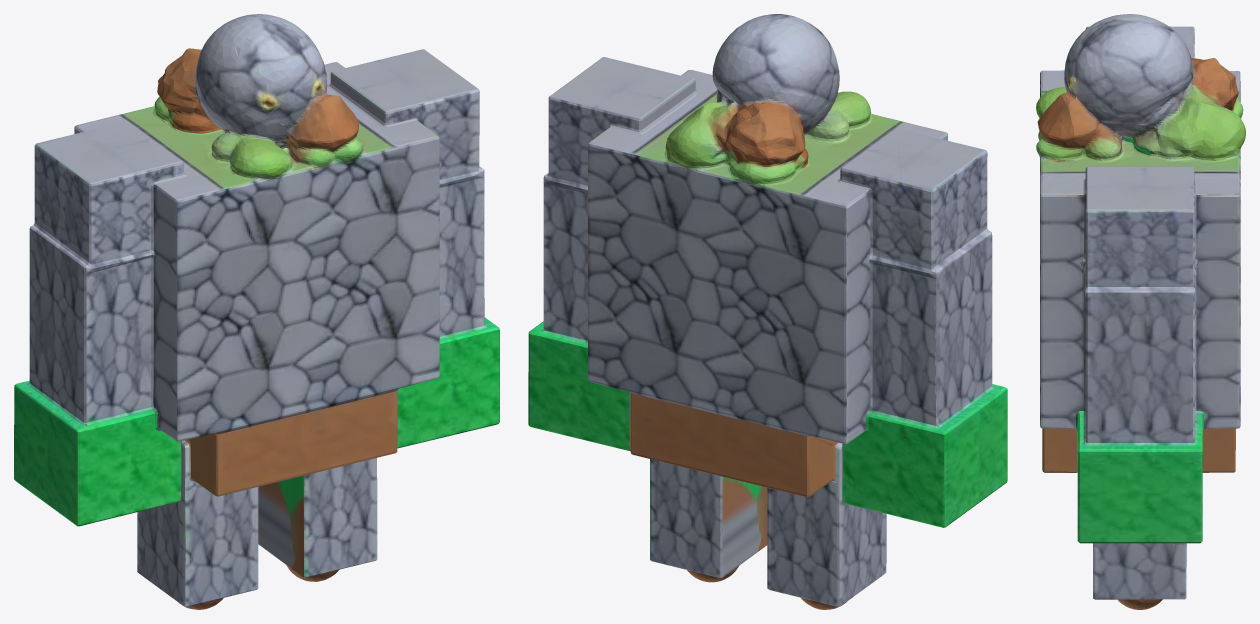
The model's file is creature-107.lod.glb.
The picture shows the model from 3 angles, left to right: view 1: azimuth 30°, elevation 25°; view 2: azimuth 150°, elevation 25°; view 3: azimuth 270°, elevation 25°; orthographic projection. The views are drawn at different scales.
Parts seen in each view (by area): view 1: tmph0wsfhwy.ply; view 2: tmph0wsfhwy.ply; view 3: tmph0wsfhwy.ply.
Part boxes in pixels (left/top/right/bottom): tmph0wsfhwy.ply: left=14, top=14, right=499, bottom=609; tmph0wsfhwy.ply: left=528, top=14, right=1007, bottom=609; tmph0wsfhwy.ply: left=1036, top=14, right=1245, bottom=609.
Bounding box in the file's own units: 1.53 × 1.99 × 0.6774.
Materials: 1 (1 with a texture image).
